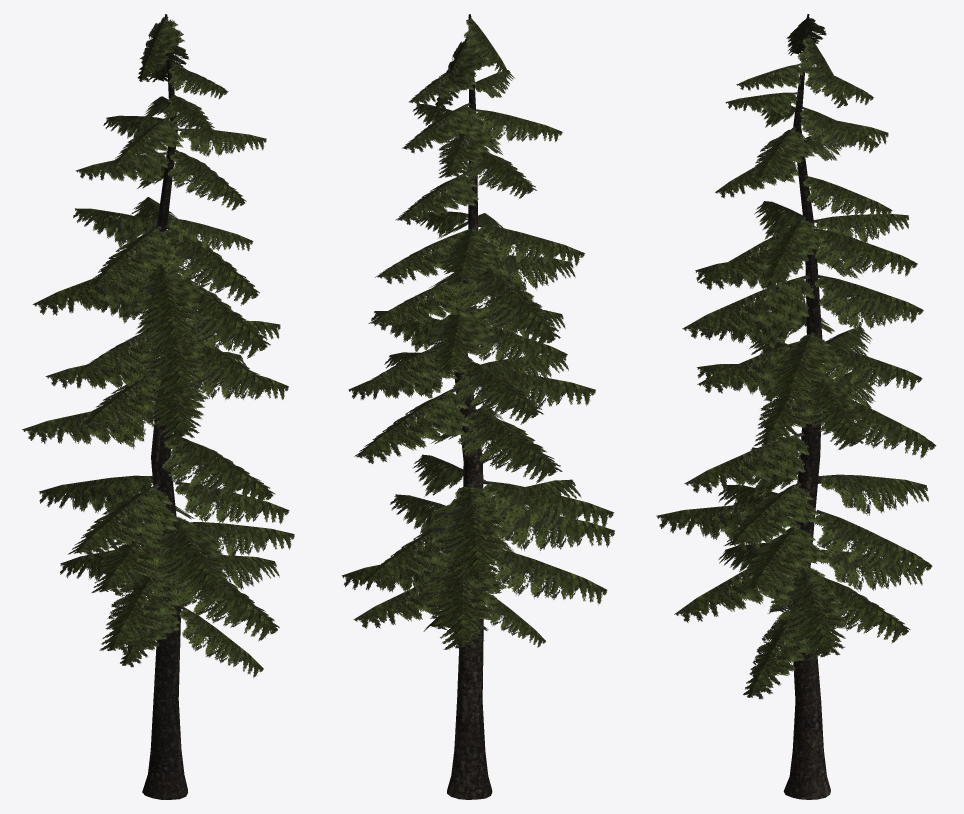
File: tree_2.glb
The picture shows the model from 3 angles, left to right: view 1: azimuth 30°, elevation 25°; view 2: azimuth 150°, elevation 25°; view 3: azimuth 270°, elevation 25°; orthographic projection.
Visible parts, largest first — view 1: tree_2_branches, tree_2; view 2: tree_2_branches, tree_2; view 3: tree_2_branches, tree_2.
Boxes of the visible parts, bbox=[...] form: tree_2_branches: bbox=[22, 17, 294, 677]; tree_2: bbox=[142, 14, 187, 799]; tree_2_branches: bbox=[342, 17, 614, 649]; tree_2: bbox=[447, 14, 492, 799]; tree_2_branches: bbox=[656, 17, 936, 699]; tree_2: bbox=[783, 14, 830, 799].
Bounding box in the file's own units: 1.42 × 4.13 × 1.46.
2 materials, 2 textured.
